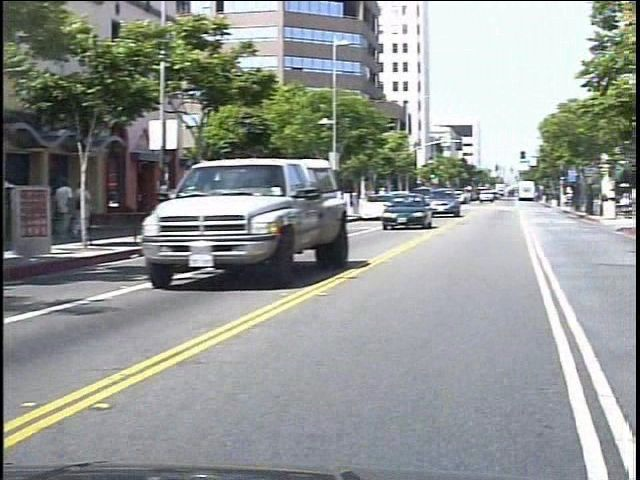person: (66, 175, 87, 239), (82, 178, 97, 242)
